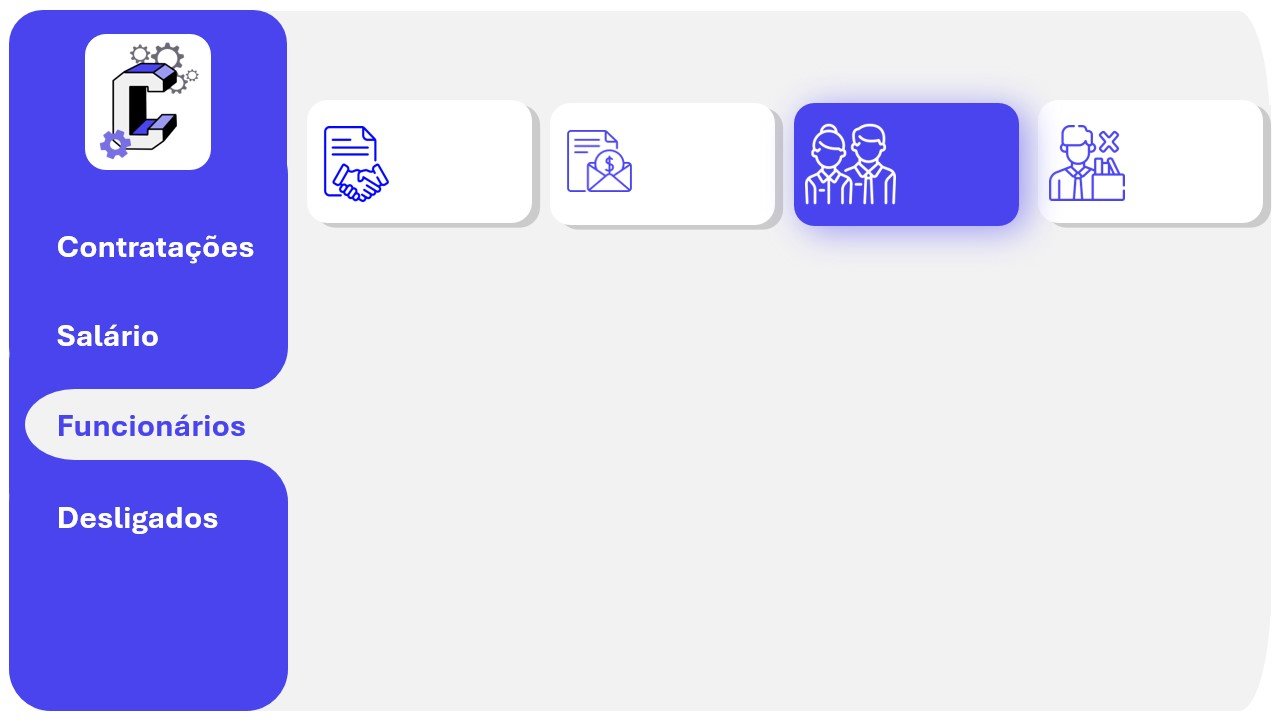

Layout of this report page (visuals, bound fields, positions):
{"tool":"powerbi","page":{"name":"Página 3","canvas":[1280,720],"ordinal":2},"visuals":[{"type":"actionButton","box":[39.4,301.3,140.2,59.1],"z":0},{"type":"actionButton","box":[39.4,214.4,232.9,59.1],"z":1000},{"type":"actionButton","box":[39.4,486.7,216.7,59.1],"z":2000},{"type":"textbox","box":[565.5,29,385.9,48.7],"z":3000},{"type":"cardVisual","fields":{"Data":["CountNonNull(exemplo_interativo.FuncionarioID)"]},"box":[392.8,95,119.3,74.2],"z":4000},{"type":"textbox","box":[403.2,158.7,122.8,59.1],"z":5000},{"type":"textbox","box":[638.5,158.7,122.8,59.1],"z":6000},{"type":"textbox","box":[899.2,158.7,122.8,59.1],"z":7000},{"type":"textbox","box":[1137.9,158.7,122.8,59.1],"z":8000},{"type":"cardVisual","fields":{"Data":["exemplo_interativo.qtd_ativos"]},"box":[889.9,100.8,76.5,61.4],"z":9000},{"type":"cardVisual","fields":{"Data":["exemplo_interativo.qtd_desligados"]},"box":[1137.9,102,76.5,61.4],"z":10000},{"type":"cardVisual","fields":{"Data":["Sum(exemplo_interativo.Salario)"]},"box":[628,102,130.9,61.4],"z":11000},{"type":"actionButton","box":[49.4,311.3,140.2,59.1],"z":12000},{"type":"clusteredBarChart","title":"Funcionários ativos por área","fields":{"Category":["exemplo_interativo.Area"],"Y":["exemplo_interativo.qtd_ativos"]},"box":[325.6,244.5,312.9,446.1],"z":13000},{"type":"columnChart","title":"Funcionários ativos por ano","fields":{"Category":["exemplo_interativo.Ano"],"Y":["exemplo_interativo.qtd_ativos"]},"box":[654.7,244.5,606,178.4],"z":14000},{"type":"azureMap","title":"Funcionários ativos por Cidade","fields":{"Category":["exemplo_interativo.Cidade"],"Size":["exemplo_interativo.qtd_ativos"]},"box":[994.2,441.5,258.4,249.1],"z":15000},{"type":"pieChart","title":"Funcionários ativos por tipo de Adulto","fields":{"Category":["exemplo_interativo.Tipo de Adulto"],"Y":["exemplo_interativo.qtd_ativos"]},"box":[654.7,441.5,322.1,249.1],"z":16000}]}

Visuals, with their boxes in screenshot pixels (x1, y1, x2, y2), scaled from the page's 1280x720 canvas onto the 1280x720 screenshot:
actionButton: (39, 301, 180, 360)
actionButton: (39, 214, 272, 274)
actionButton: (39, 487, 256, 546)
textbox: (566, 29, 951, 78)
cardVisual - CountNonNull(exemplo_interativo.FuncionarioID): (393, 95, 512, 169)
textbox: (403, 159, 526, 218)
textbox: (638, 159, 761, 218)
textbox: (899, 159, 1022, 218)
textbox: (1138, 159, 1261, 218)
cardVisual - exemplo_interativo.qtd_ativos: (890, 101, 966, 162)
cardVisual - exemplo_interativo.qtd_desligados: (1138, 102, 1214, 163)
cardVisual - Sum(exemplo_interativo.Salario): (628, 102, 759, 163)
actionButton: (49, 311, 190, 370)
"Funcionários ativos por área" clusteredBarChart: (326, 244, 638, 691)
"Funcionários ativos por ano" columnChart: (655, 244, 1261, 423)
"Funcionários ativos por Cidade" azureMap: (994, 442, 1253, 691)
"Funcionários ativos por tipo de Adulto" pieChart: (655, 442, 977, 691)
